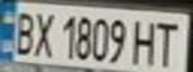0: (90, 14, 112, 63)
1: (54, 10, 78, 60)
8: (72, 11, 93, 61)
9: (106, 15, 133, 64)
B: (9, 7, 39, 56)
H: (127, 16, 163, 66)
T: (151, 17, 187, 69)
X: (30, 8, 57, 59)
